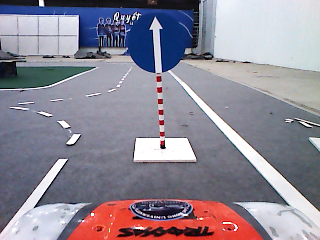straight: (126, 12, 187, 75)
